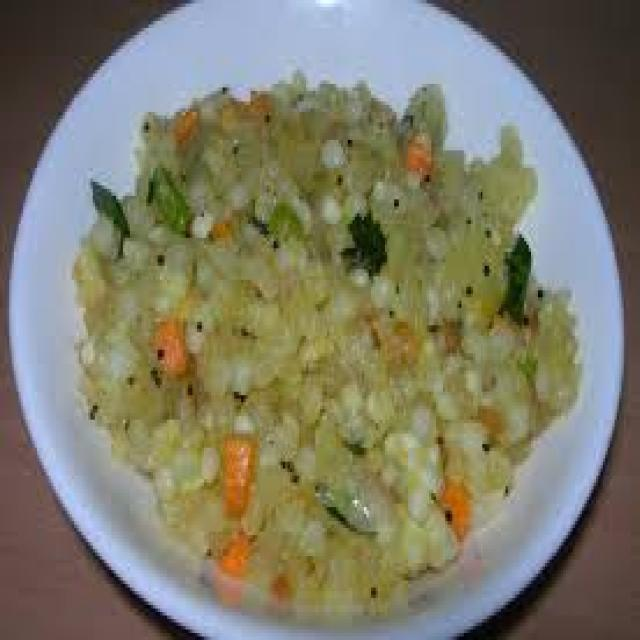UPMA: (65, 77, 573, 605)
